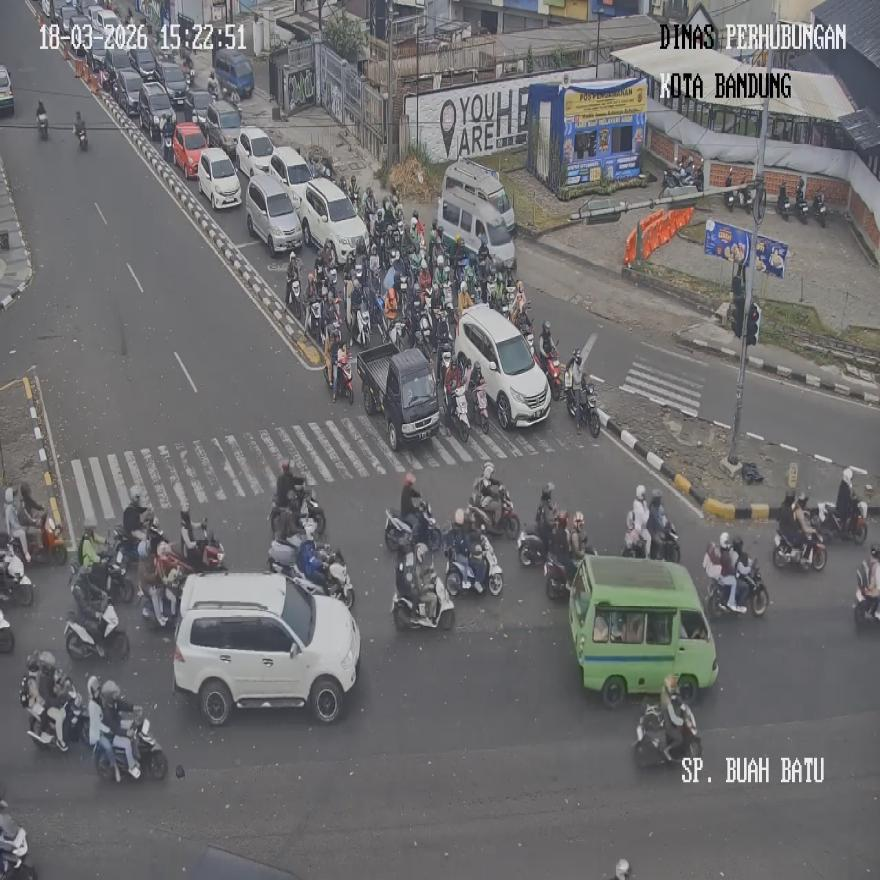Mobil: (171, 570, 360, 724), (568, 555, 718, 709), (457, 304, 552, 429), (434, 158, 516, 278), (245, 170, 302, 255)
Motor: (268, 538, 354, 607), (93, 714, 167, 781), (634, 700, 700, 766), (391, 564, 454, 630), (64, 599, 129, 662), (70, 544, 134, 605), (27, 678, 81, 750), (444, 534, 503, 595), (166, 517, 226, 573), (707, 561, 768, 616), (270, 480, 324, 539), (384, 499, 441, 552), (545, 545, 596, 601), (468, 486, 519, 539), (621, 520, 680, 564), (816, 499, 867, 545), (772, 528, 826, 571), (142, 574, 182, 628), (0, 543, 33, 606), (0, 825, 36, 879), (566, 382, 600, 438), (853, 562, 880, 625), (328, 348, 354, 404), (444, 385, 470, 441), (42, 510, 68, 563), (539, 347, 563, 400), (652, 520, 680, 562), (467, 380, 489, 433), (412, 309, 434, 358), (305, 298, 324, 347), (350, 300, 369, 348), (285, 274, 302, 319), (387, 316, 407, 350), (794, 182, 809, 224), (0, 606, 13, 653), (738, 180, 755, 215), (724, 168, 737, 211), (812, 193, 826, 227), (777, 182, 789, 221), (74, 119, 88, 149), (207, 72, 219, 103), (38, 112, 49, 140)
